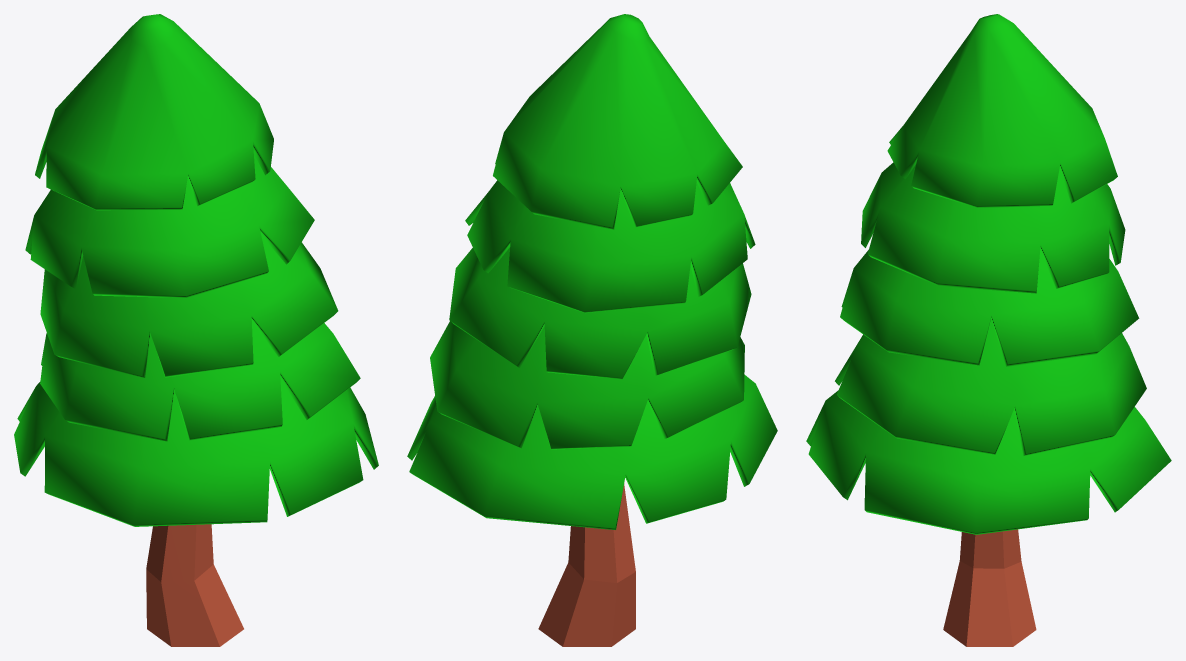
File: treePine.glb
3 renders of one model, left to right at view 1: azimuth 30°, elevation 25°; view 2: azimuth 150°, elevation 25°; view 3: azimuth 270°, elevation 25°, orthographic. The views are drawn at different scales.
Parts seen in each view (by area): view 1: tree.020; view 2: tree.020; view 3: tree.020.
Boxes of the visible parts, x1,y1,x2,y2 form: tree.020: (14,14,378,646); tree.020: (407,14,777,646); tree.020: (806,14,1171,646).
Size of the model in its own units: 4.73 by 8.79 by 4.89.
